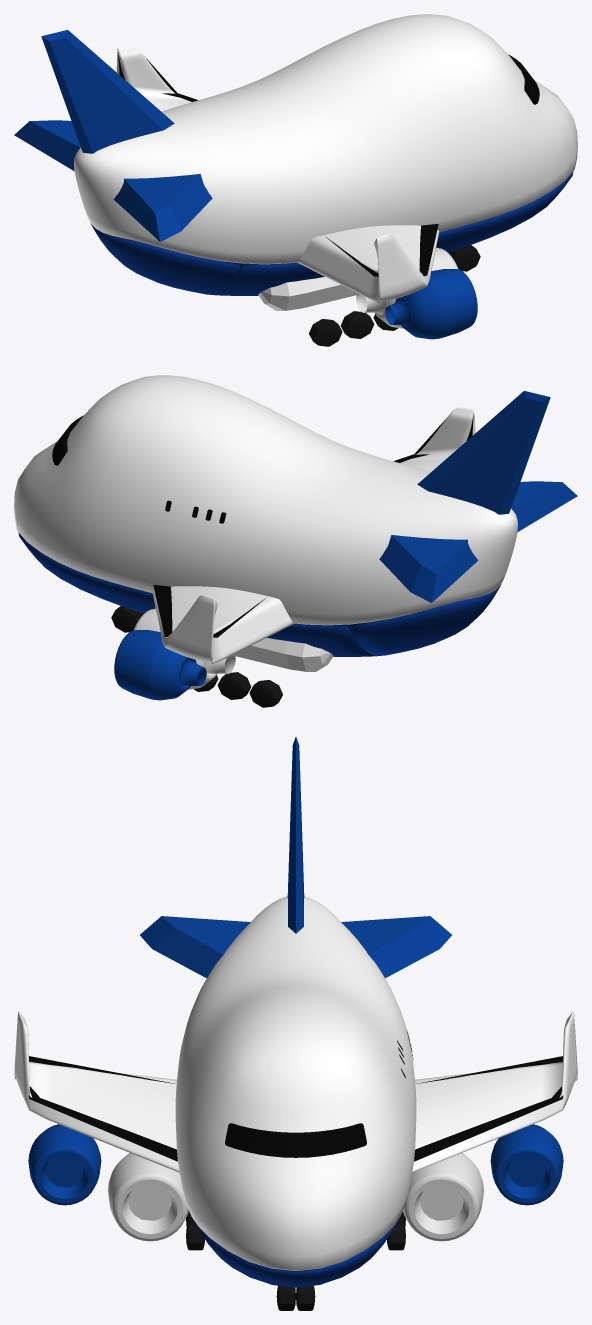
3 views of the same model, one above another, from view 1: azimuth 30°, elevation 25°; view 2: azimuth 150°, elevation 25°; view 3: azimuth 270°, elevation 25° (orthographic). The views are drawn at different scales.
Parts seen in each view (by area): view 1: Plane.006; view 2: Plane.006; view 3: Plane.006.
Boxes of the visible parts, bbox=[...] form: Plane.006: bbox=[14, 14, 577, 346]; Plane.006: bbox=[14, 375, 577, 707]; Plane.006: bbox=[14, 737, 577, 1310].
Size of the model in its own units: 441 by 264 by 380.
